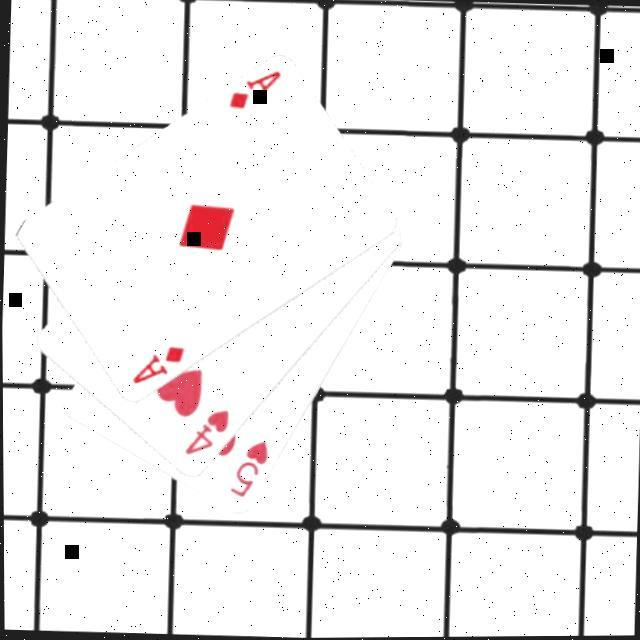4H: (179, 404, 231, 459)
5H: (224, 436, 270, 500)
AD: (126, 340, 186, 388), (223, 65, 283, 113)
